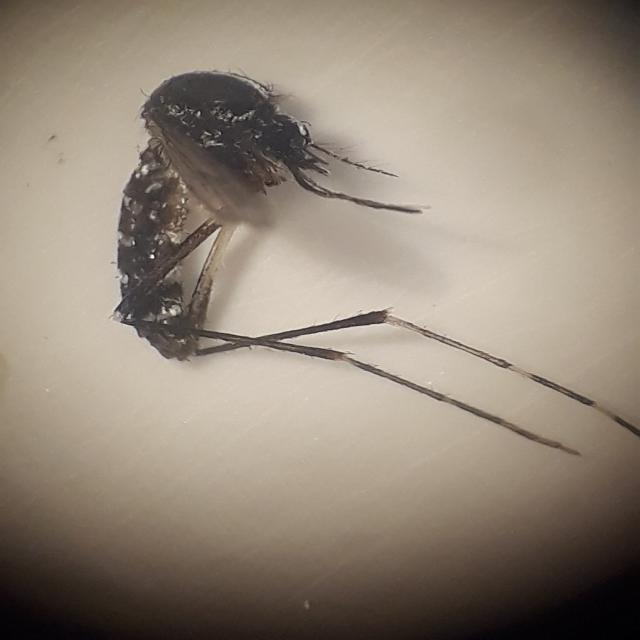albopictus: (115, 236, 634, 500)
